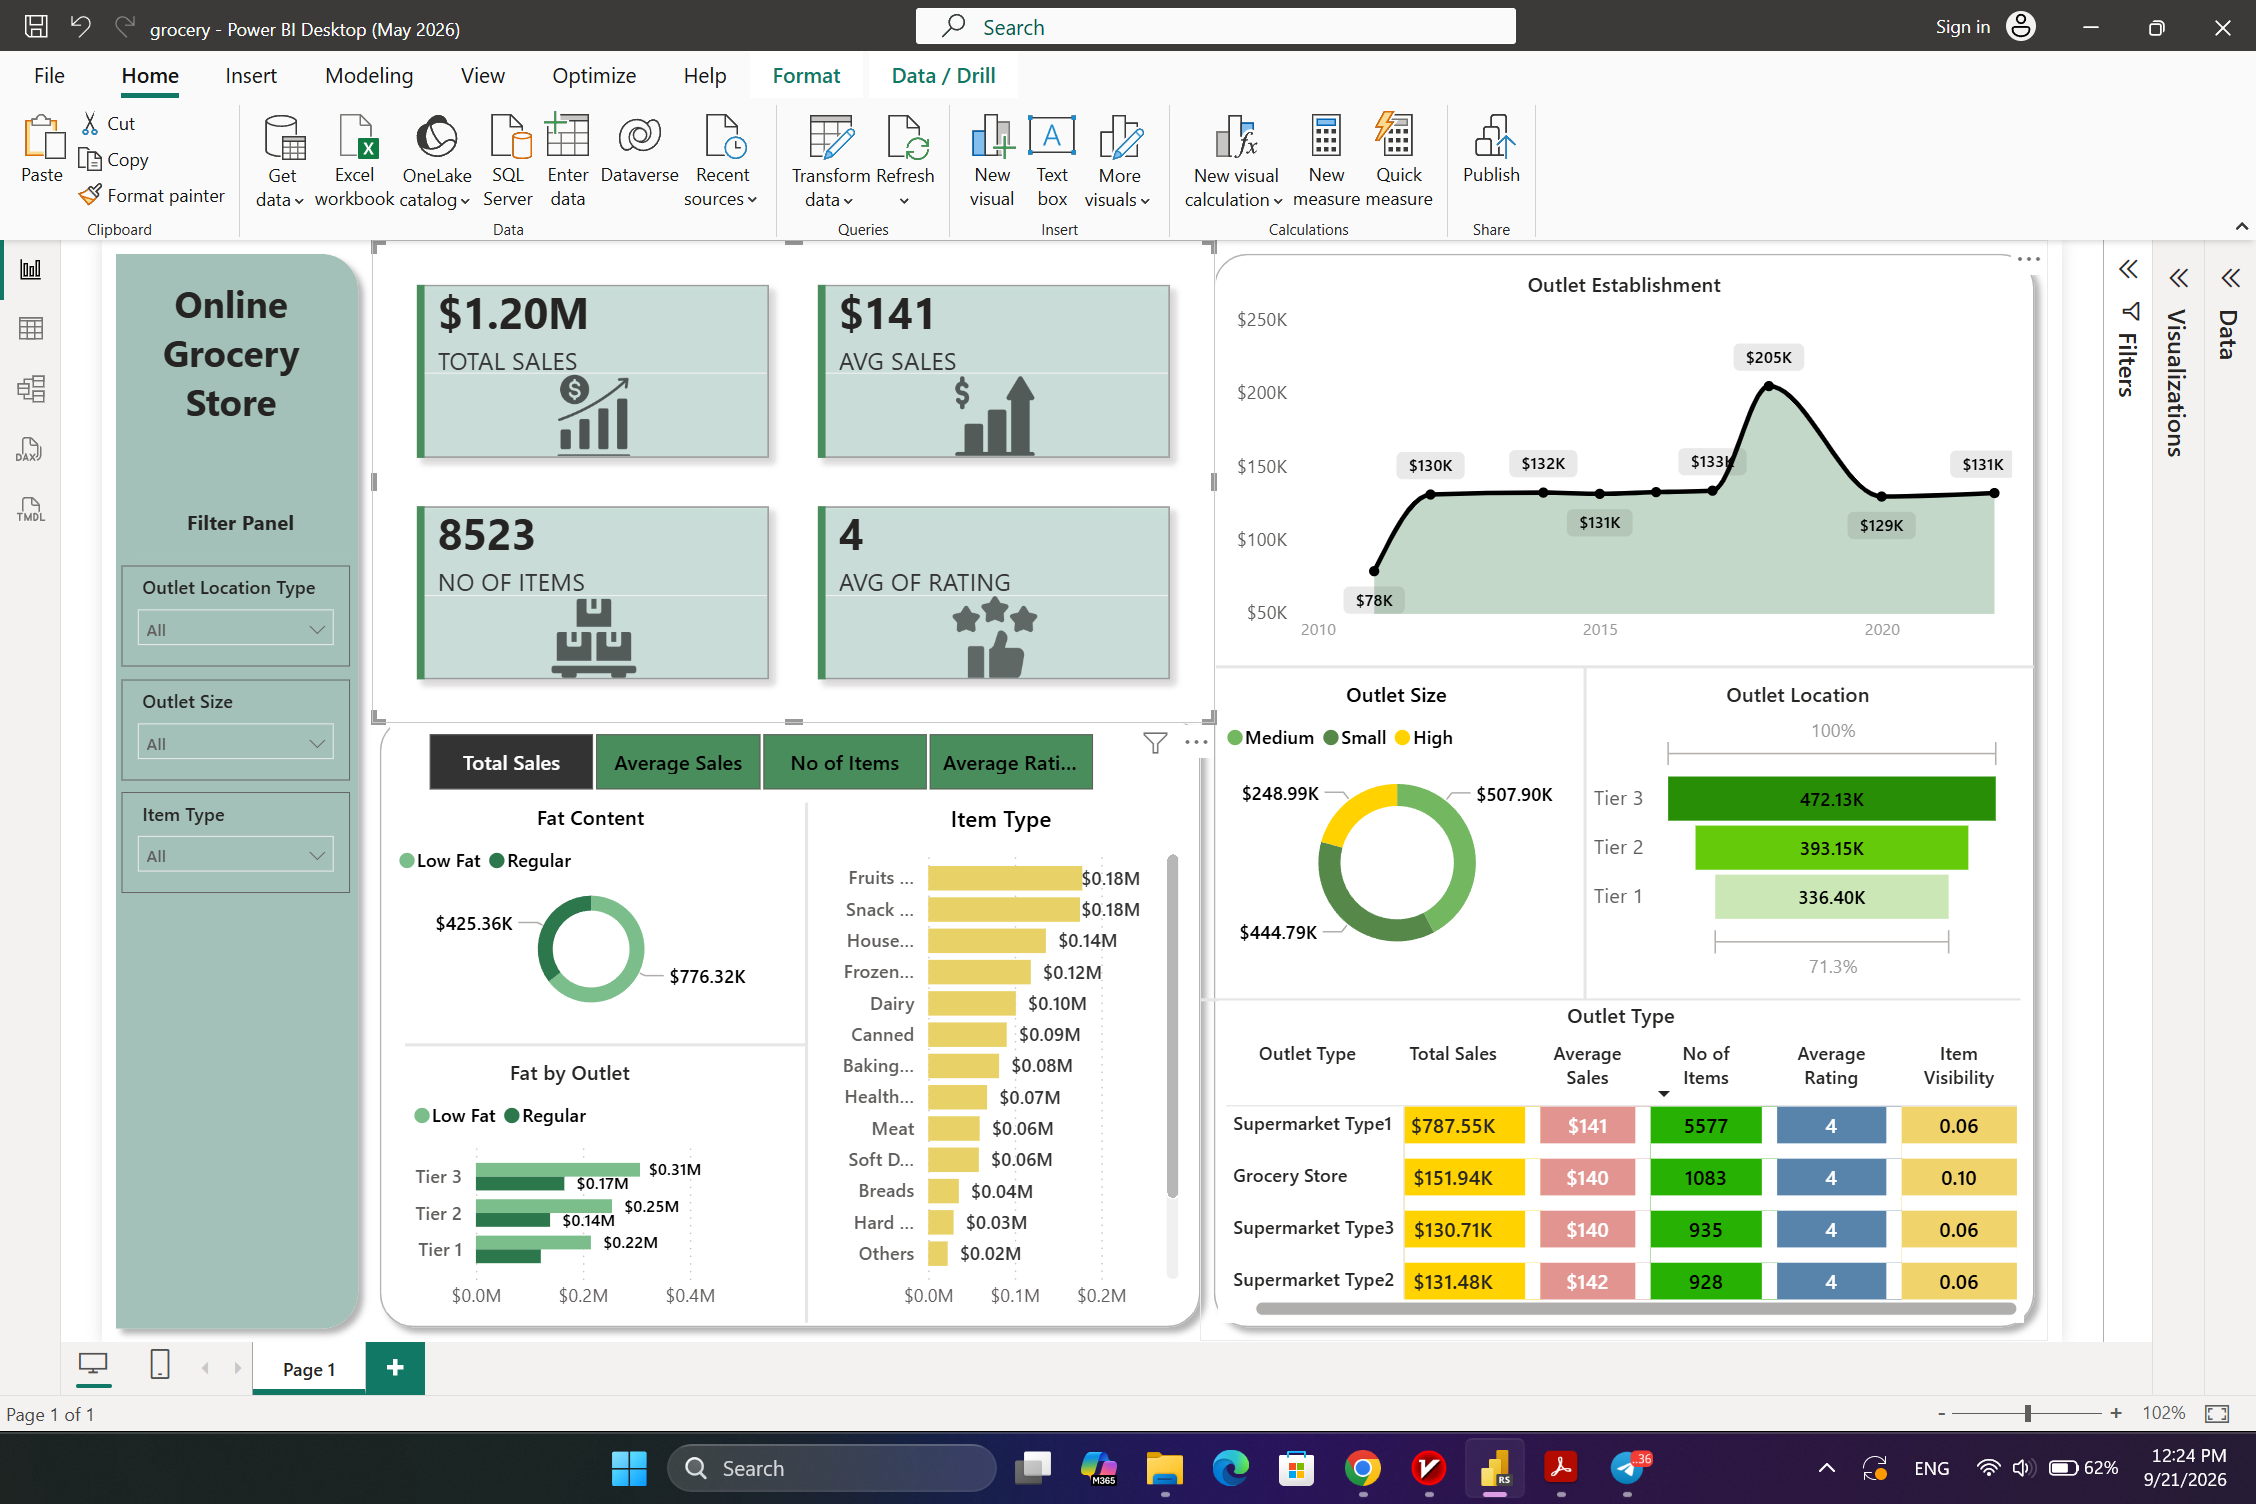

The page's visual inventory and layout, read from the dashboard file:
{"tool":"powerbi","page":{"name":"Page 1","canvas":[1280,720],"ordinal":0},"visuals":[{"type":"shape","box":[0,0,176.4,720.3],"z":0},{"type":"textbox","box":[9.8,19.6,149.1,118.5],"z":1000},{"type":"cardVisual","fields":{"Data":["BlinkIT Grocery Data.Total Sales","BlinkIT Grocery Data.Average Sales","BlinkIT Grocery Data.No of Items","BlinkIT Grocery Data.Average Rating"]},"box":[176.1,0,551,316],"z":2000},{"type":"shape","box":[172.4,302.8,554.2,416.6],"z":3000},{"type":"donutChart","title":"Fat Content","fields":{"Y":["BlinkIT Grocery Data.Total Sales"],"Category":["BlinkIT Grocery Data.Item Fat Content"]},"box":[187.9,367.5,262.1,144.8],"z":4000},{"type":"slicer","fields":{"Values":["Metrics.Metrics"]},"box":[187.9,316,483.6,50.3],"z":5000},{"type":"clusteredBarChart","title":"Fat by Outlet","fields":{"Y":["BlinkIT Grocery Data.Total Sales"],"Category":["BlinkIT Grocery Data.Outlet Location Type"],"Series":["BlinkIT Grocery Data.Item Fat Content"]},"box":[197.5,533.9,215.5,173.6],"z":6000},{"type":"shape","box":[453.7,367.5,13.2,340],"z":7000},{"type":"shape","box":[197.9,517.5,262.1,16.8],"z":8000},{"type":"barChart","title":"Item Type","fields":{"Y":["BlinkIT Grocery Data.Total Sales"],"Category":["BlinkIT Grocery Data.Item Type"]},"box":[466.8,367.5,241.8,340],"z":9000},{"type":"shape","box":[717,0,554.2,719.4],"z":10000},{"type":"lineChart","title":"Outlet Establishment","fields":{"Category":["BlinkIT Grocery Data.Outlet Establishment Year"],"Y":["BlinkIT Grocery Data.Total Sales"]},"box":[736.2,19.2,517.1,251.4],"z":11000},{"type":"shape","box":[717,488.4,536.3,16.8],"z":12000},{"type":"donutChart","title":"Outlet Size","fields":{"Category":["BlinkIT Grocery Data.Outlet Size"],"Y":["BlinkIT Grocery Data.Total Sales"]},"box":[729,287.3,233.4,192.7],"z":13000},{"type":"shape","box":[962.4,278.9,13.2,217.9],"z":14000},{"type":"funnel","title":"Outlet Location","fields":{"Category":["BlinkIT Grocery Data.Outlet Location Type"],"Y":["Sum(BlinkIT Grocery Data.Sales)"]},"box":[969.6,287.3,277.7,201.1],"z":15000},{"type":"shape","box":[726.6,270.5,536.3,16.8],"z":16000},{"type":"pivotTable","title":"Outlet Type","fields":{"Rows":["BlinkIT Grocery Data.Outlet Type"],"Values":["BlinkIT Grocery Data.Total Sales","BlinkIT Grocery Data.Average Sales","BlinkIT Grocery Data.No of Items","BlinkIT Grocery Data.Average Rating","Avg(BlinkIT Grocery Data.Item Visibility)"]},"box":[729,496.8,526.7,210.7],"z":17000},{"type":"slicer","fields":{"Values":["BlinkIT Grocery Data.Outlet Location Type"]},"box":[13.2,213.1,149.6,65.8],"z":17001},{"type":"slicer","fields":{"Values":["BlinkIT Grocery Data.Outlet Size"]},"box":[13.2,287.3,149.6,65.8],"z":17002},{"type":"slicer","fields":{"Values":["BlinkIT Grocery Data.Item Type"]},"box":[13.2,360.3,149.6,65.8],"z":17003},{"type":"textbox","box":[18.2,169.5,143.7,35.4],"z":17004}]}

Visuals, with their boxes on the page's 1280x720 design canvas (x1, y1, x2, y2). These are canvas units, not pixel positions in the 2256x1504 screenshot, which may show the page scaled, cropped or inside an application window:
shape: x1=0 y1=0 x2=176 y2=720
textbox: x1=10 y1=20 x2=159 y2=138
cardVisual - BlinkIT Grocery Data.Total Sales x BlinkIT Grocery Data.Average Sales: x1=176 y1=0 x2=727 y2=316
shape: x1=172 y1=303 x2=727 y2=719
"Fat Content" donutChart: x1=188 y1=368 x2=450 y2=512
slicer - Metrics.Metrics: x1=188 y1=316 x2=672 y2=366
"Fat by Outlet" clusteredBarChart: x1=198 y1=534 x2=413 y2=708
shape: x1=454 y1=368 x2=467 y2=708
shape: x1=198 y1=518 x2=460 y2=534
"Item Type" barChart: x1=467 y1=368 x2=709 y2=708
shape: x1=717 y1=0 x2=1271 y2=719
"Outlet Establishment" lineChart: x1=736 y1=19 x2=1253 y2=271
shape: x1=717 y1=488 x2=1253 y2=505
"Outlet Size" donutChart: x1=729 y1=287 x2=962 y2=480
shape: x1=962 y1=279 x2=976 y2=497
"Outlet Location" funnel: x1=970 y1=287 x2=1247 y2=488
shape: x1=727 y1=270 x2=1263 y2=287
"Outlet Type" pivotTable: x1=729 y1=497 x2=1256 y2=708
slicer - BlinkIT Grocery Data.Outlet Location Type: x1=13 y1=213 x2=163 y2=279
slicer - BlinkIT Grocery Data.Outlet Size: x1=13 y1=287 x2=163 y2=353
slicer - BlinkIT Grocery Data.Item Type: x1=13 y1=360 x2=163 y2=426
textbox: x1=18 y1=170 x2=162 y2=205
